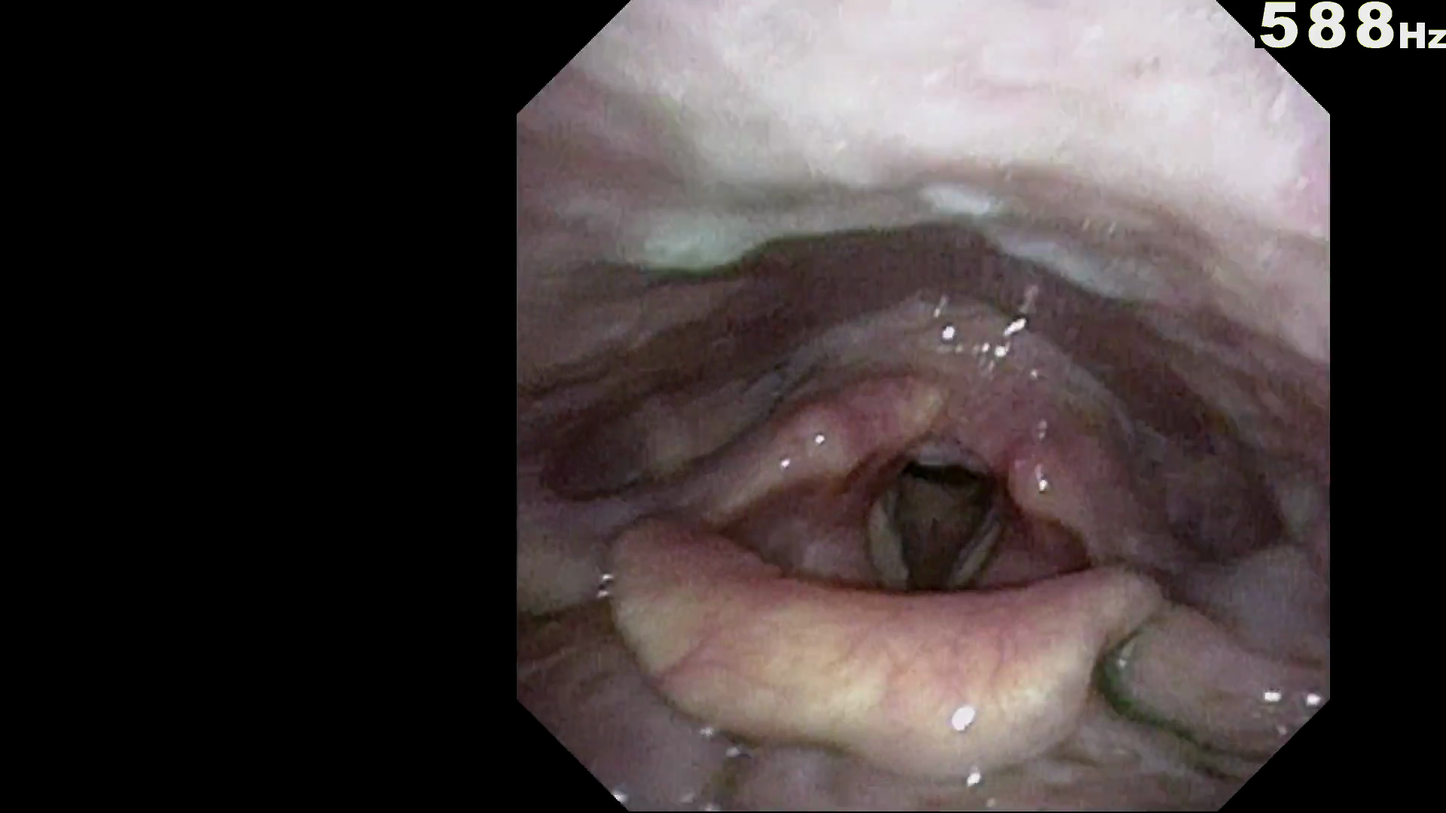epiglottis: (607, 548, 1151, 739)
trachea: (872, 452, 997, 605)
